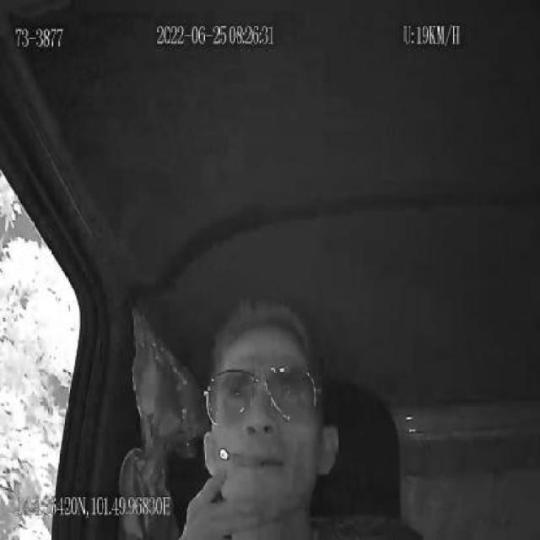smoking: (217, 443, 257, 476)
